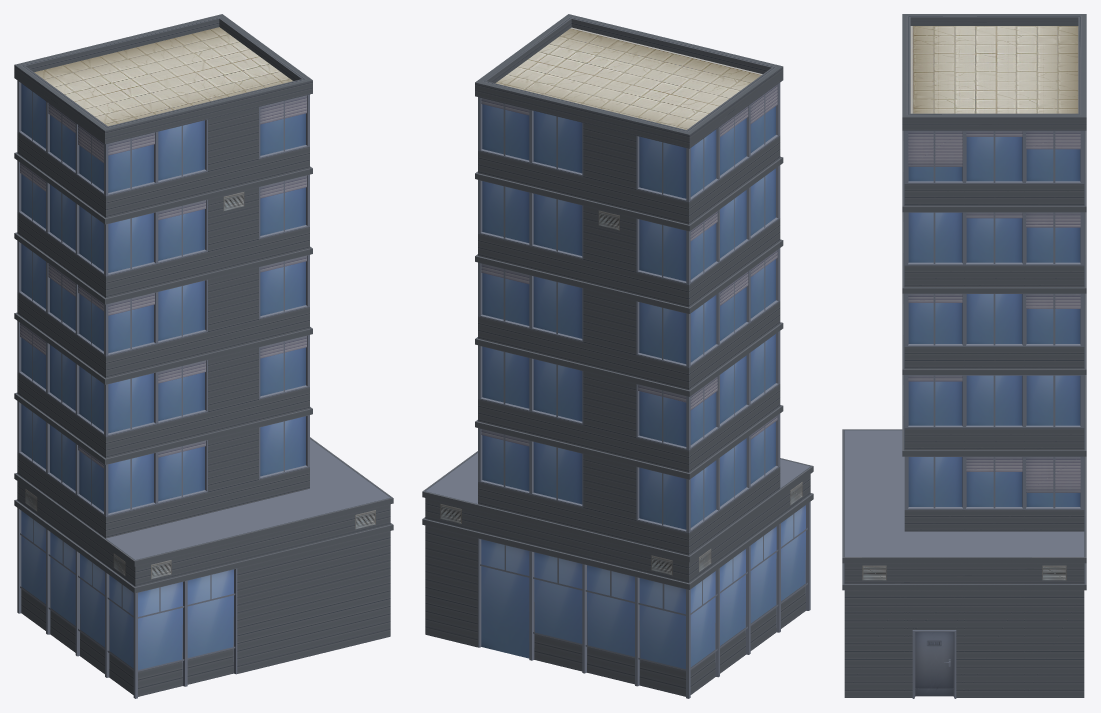
File: Building_Office_2_LOD1.fbx
3 views of the same model, side by side, from view 1: azimuth 30°, elevation 25°; view 2: azimuth 150°, elevation 25°; view 3: azimuth 270°, elevation 25° (orthographic). The views are drawn at different scales.
Visible parts, largest first — view 1: polySurface263; view 2: polySurface263; view 3: polySurface263.
Boxes of the visible parts, x1=… form: polySurface263: x1=14, y1=14, x2=393, y2=698; polySurface263: x1=422, y1=14, x2=813, y2=698; polySurface263: x1=842, y1=14, x2=1086, y2=698.
Size of the model in its own units: 1015 by 2050 by 815.
